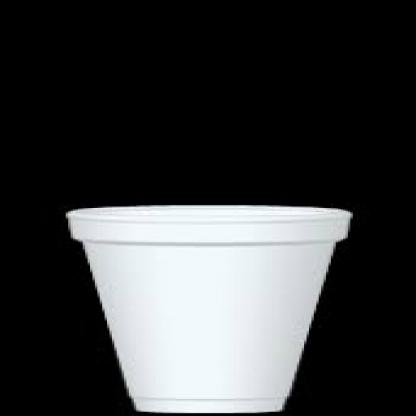paper: (61, 204, 348, 414)
